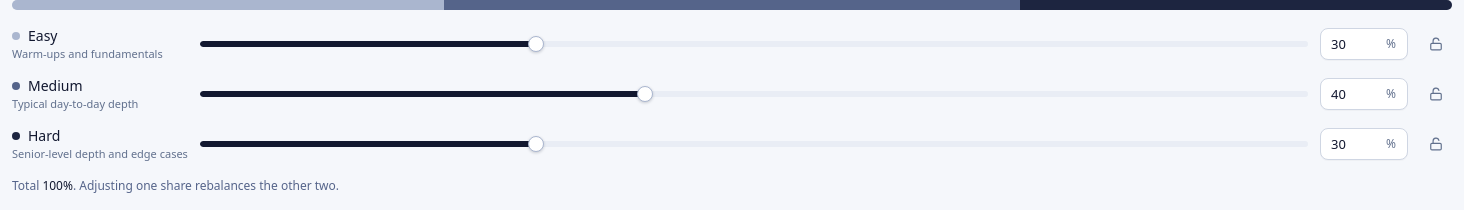
DifficultyMixEditor › rebalances the other two shares so the total stays 100%
Replace the text in the field named "Easy percentage" with "50". click: (1364, 44)
box: left=1320, top=28, right=1408, bottom=60
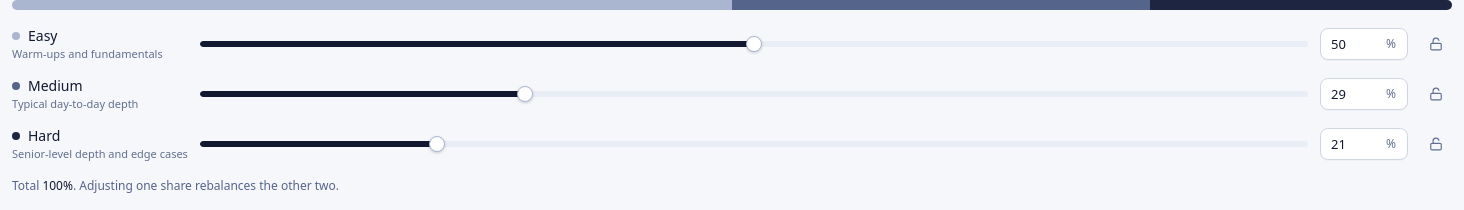
Check: the field named "Medium percentage" holds "29", box left=1320, top=78, right=1408, bottom=110
Check: the field named "Hard percentage" holds "21", box left=1320, top=128, right=1408, bottom=160
